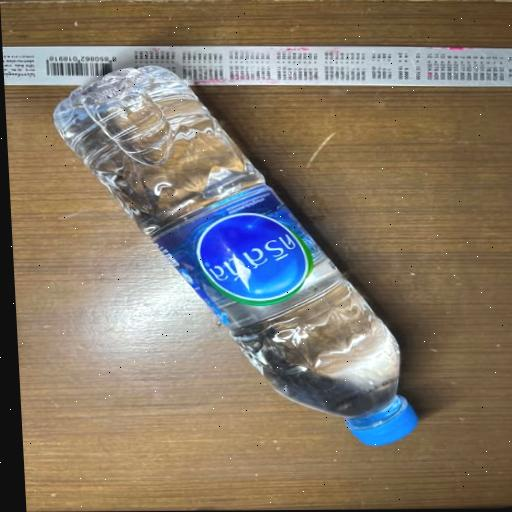ba: (35, 48, 504, 472)
